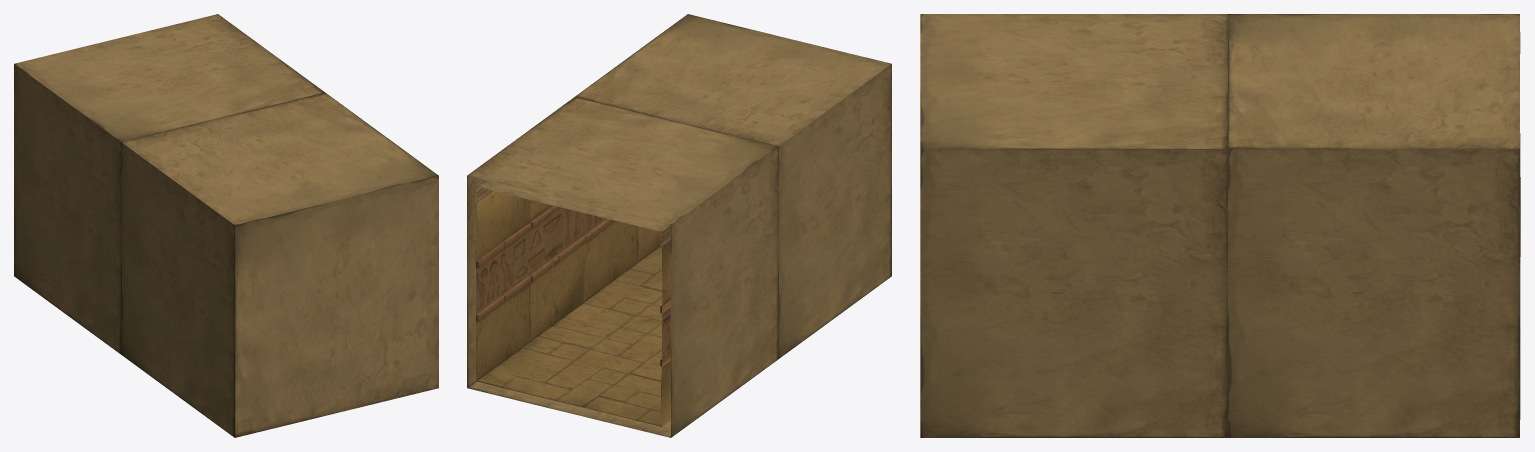
The model's file is m_DeadEnd01.FBX.
The picture shows the model from 3 angles, left to right: view 1: azimuth 30°, elevation 25°; view 2: azimuth 150°, elevation 25°; view 3: azimuth 270°, elevation 25°; orthographic projection. The views are drawn at different scales.
Parts seen in each view (by area): view 1: m_DeadEnd01; view 2: m_DeadEnd01; view 3: m_DeadEnd01.
Boxes of the visible parts, x1,y1,x2,y2 form: m_DeadEnd01: [14, 14, 438, 437]; m_DeadEnd01: [467, 14, 891, 437]; m_DeadEnd01: [920, 14, 1520, 437].
Bounding box in the file's own units: 110 × 206 × 109.
1 material, 1 textured.
